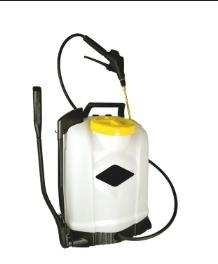PULVERISATEUR: (22, 18, 218, 263)
